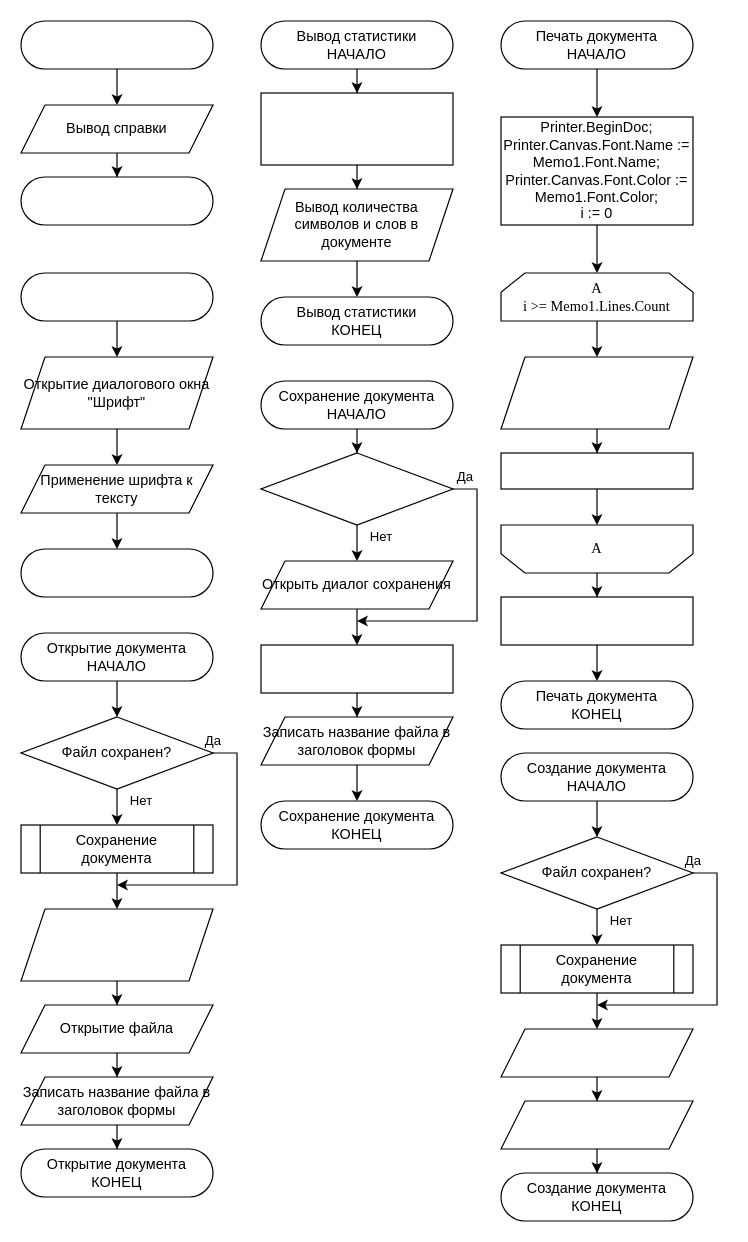
Some shapes in this 748 by 1242 pixel diagram are drawn without their labels. Each missing label, with the box of its shape:
inc(i): (500, 452, 693, 489)
Printer.Canvas.TextOut(300, 100 + i * 100, Memo1.Lines.Strings[i]);: (500, 356, 693, 429)
Printer.EndDoc;: (500, 596, 693, 645)
Вывод справки Конец: (20, 176, 213, 225)
Вывод справки НАЧАЛО: (20, 20, 213, 69)
Изменение шрифта КОНЕЦ: (20, 548, 213, 597)
Изменение шрифта НАЧАЛО: (20, 272, 213, 321)
Открыть диалоговое окно открытия файла: (20, 908, 213, 981)
Очистка текстового поля: (500, 1028, 693, 1077)
Подсчет количества символов и слов в документе: (260, 92, 453, 165)
Сброс заголовка файла: (500, 1100, 693, 1149)
Сохранить файл: (260, 644, 453, 693)
Файл уже сохранялся?: (260, 452, 453, 525)
